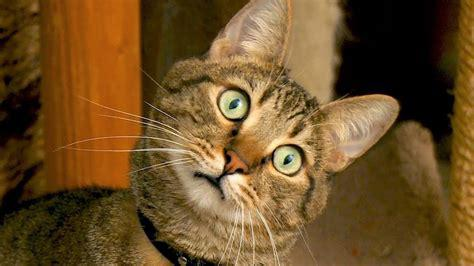cat: (1, 1, 399, 266)
